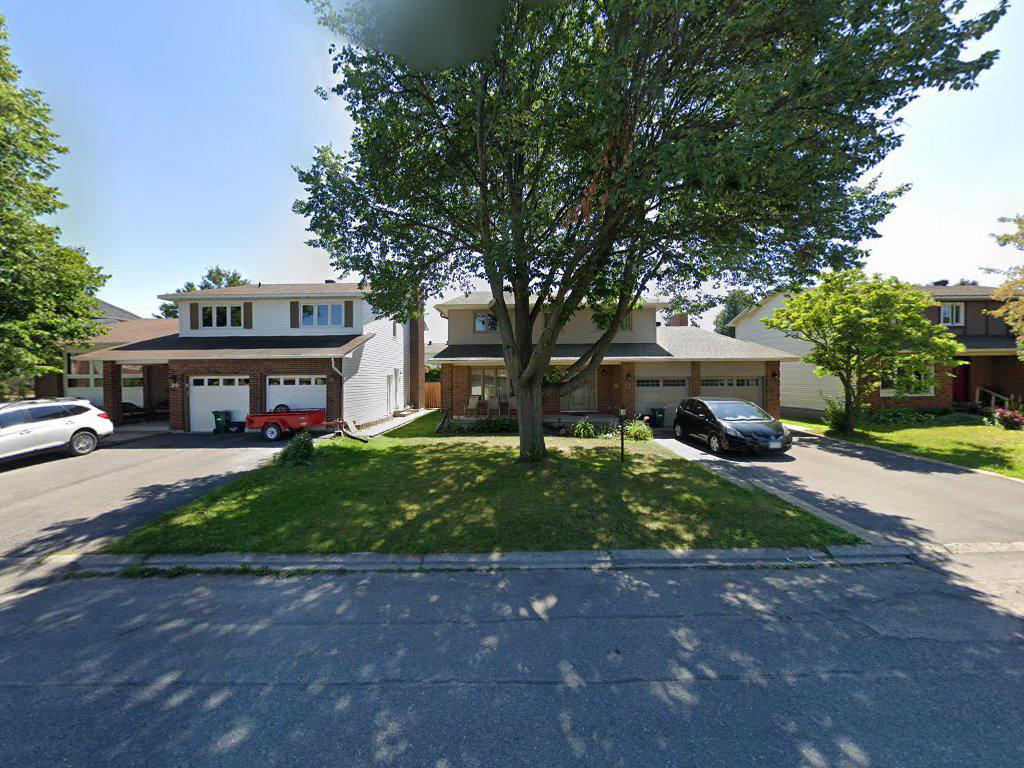trunk: (500, 295, 563, 474)
